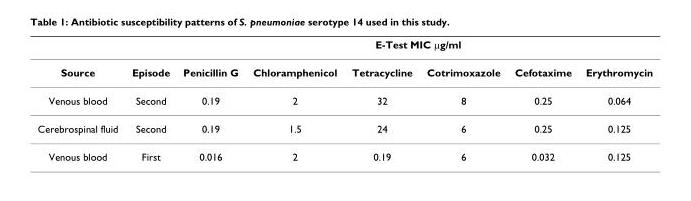table: (36, 37, 652, 162)
table column: (244, 37, 343, 162), (36, 37, 124, 162), (418, 37, 506, 162), (343, 37, 418, 162), (577, 37, 652, 162), (506, 37, 577, 162), (175, 37, 244, 162), (124, 37, 175, 162)
table column header: (36, 37, 652, 86)
table row: (36, 58, 652, 86), (36, 86, 652, 114), (36, 114, 652, 142), (36, 37, 652, 58), (36, 142, 652, 162)
table spanning cell: (175, 37, 652, 58), (36, 37, 124, 86), (124, 37, 175, 86)
